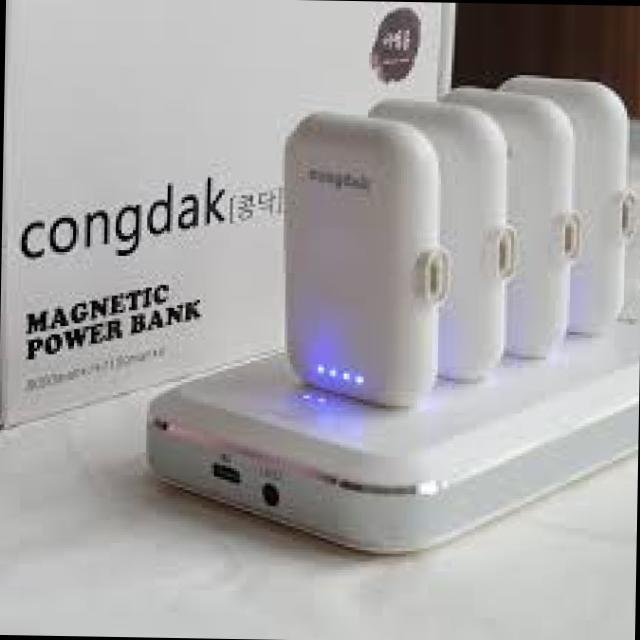power_bank: (133, 292, 640, 564)
